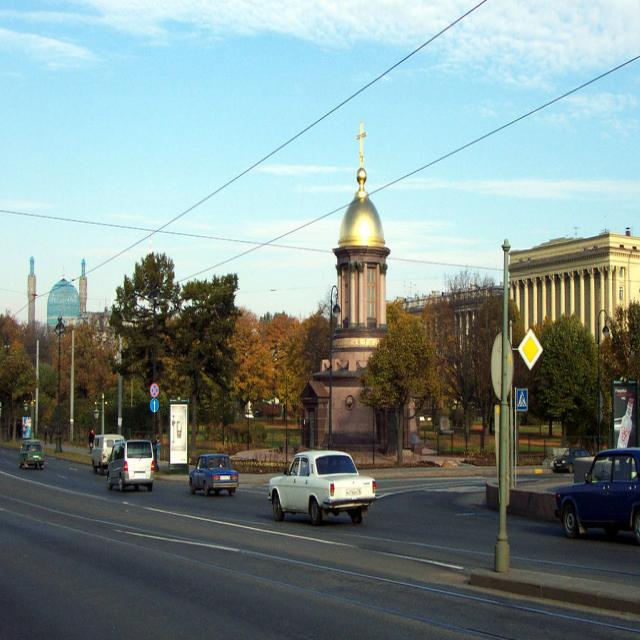car: (265, 446, 376, 521), (106, 438, 155, 491), (188, 452, 238, 493), (19, 440, 44, 467)
